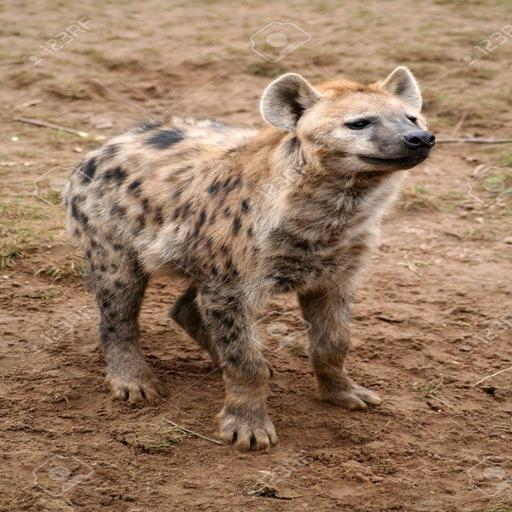Hyena: (60, 73, 432, 462)
